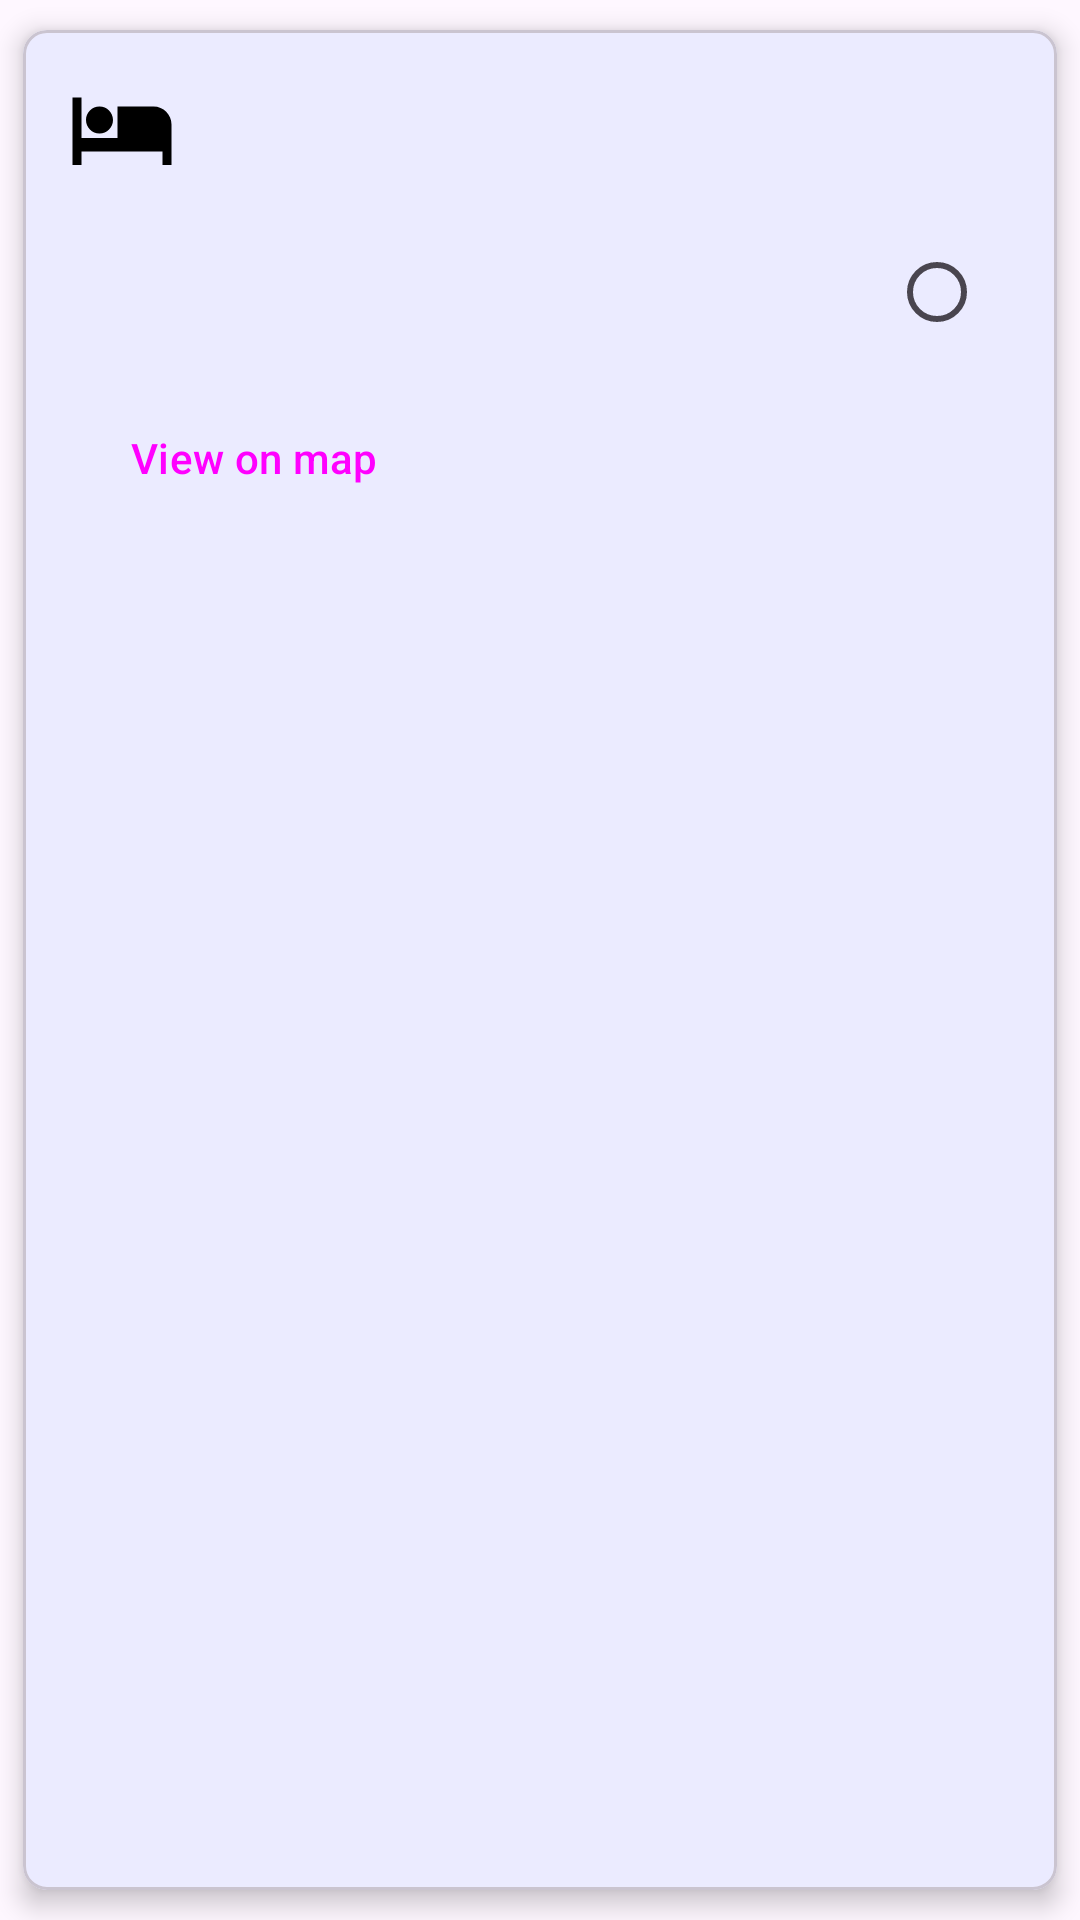

Icon click points for this 1080 × 1920 phone screenshot, format (x=x, y=y):
hotel: (x=122, y=131)
